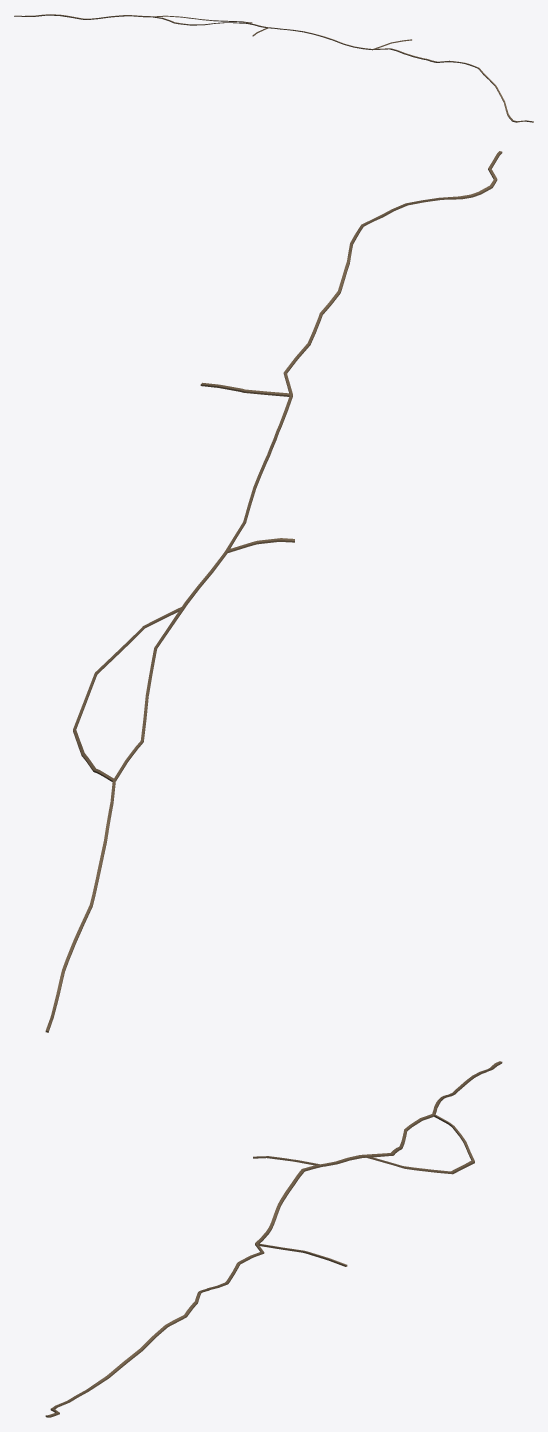
The picture shows the model from 3 angles, top to bottom: view 1: azimuth 30°, elevation 25°; view 2: azimuth 150°, elevation 25°; view 3: azimuth 330°, elevation 25°; orthographic projection. The views are drawn at different scales.
Size of the model in its own units: 145 by 120 by 584.
